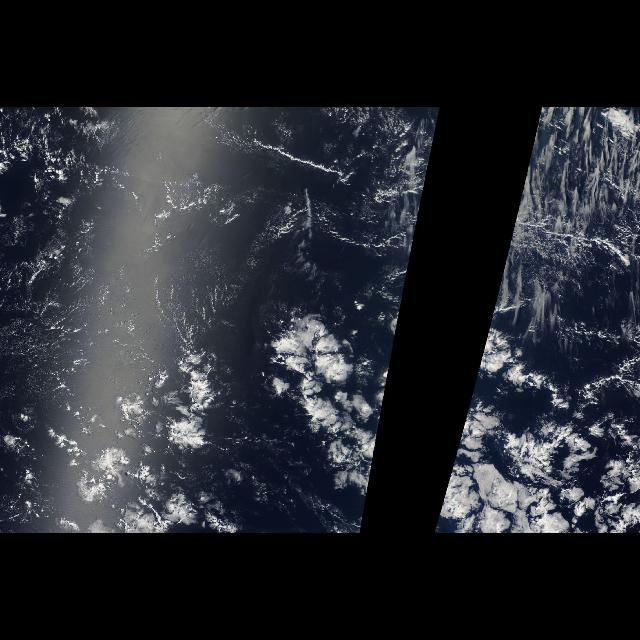Flower: (71, 352, 245, 528), (272, 304, 402, 528), (436, 304, 560, 528)
Sugar: (14, 249, 256, 335)
